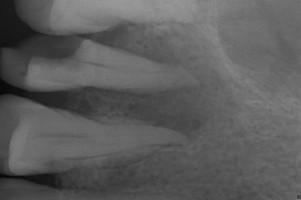Furcation Involvement: (122, 29, 241, 134)
